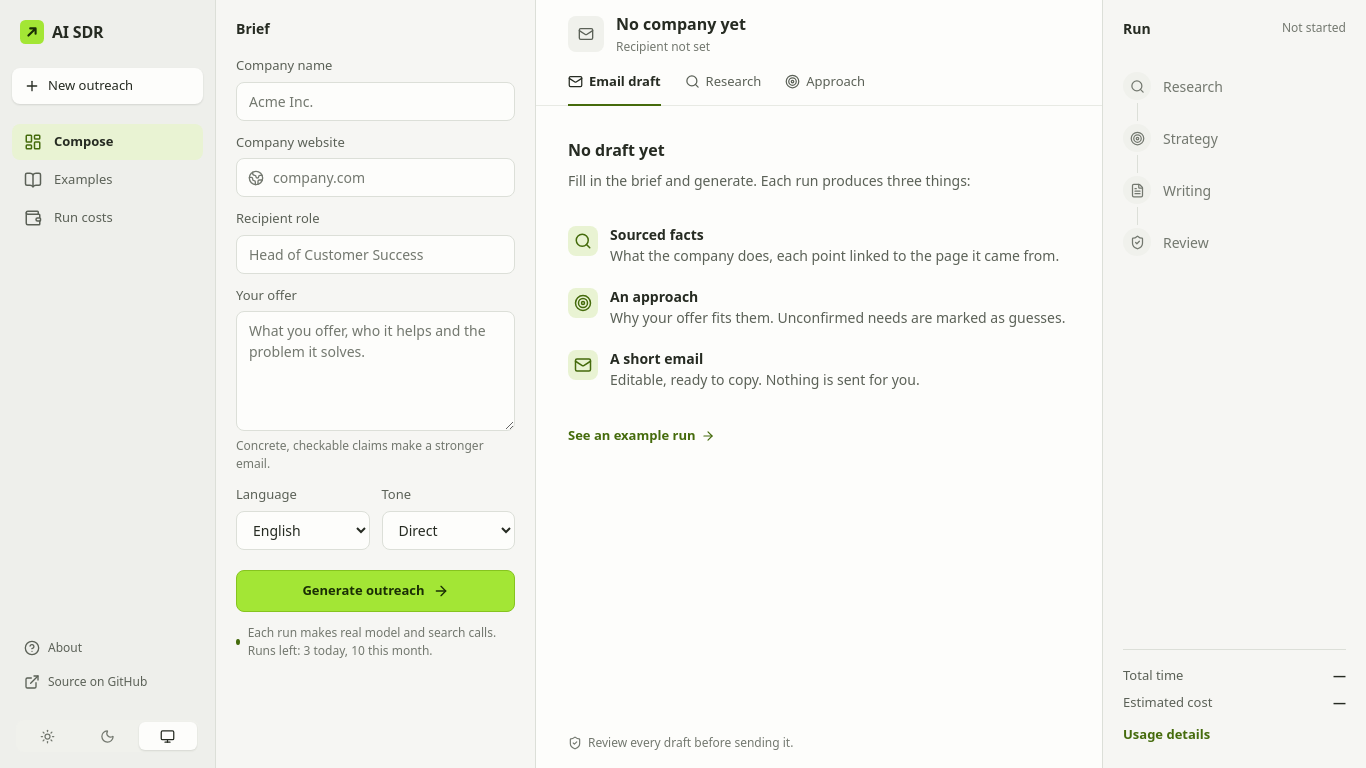
Test case: live run › explains a refused start
Type "Acme" into the field labelled "Company name" at point(376, 101), box [236,82,515,120]
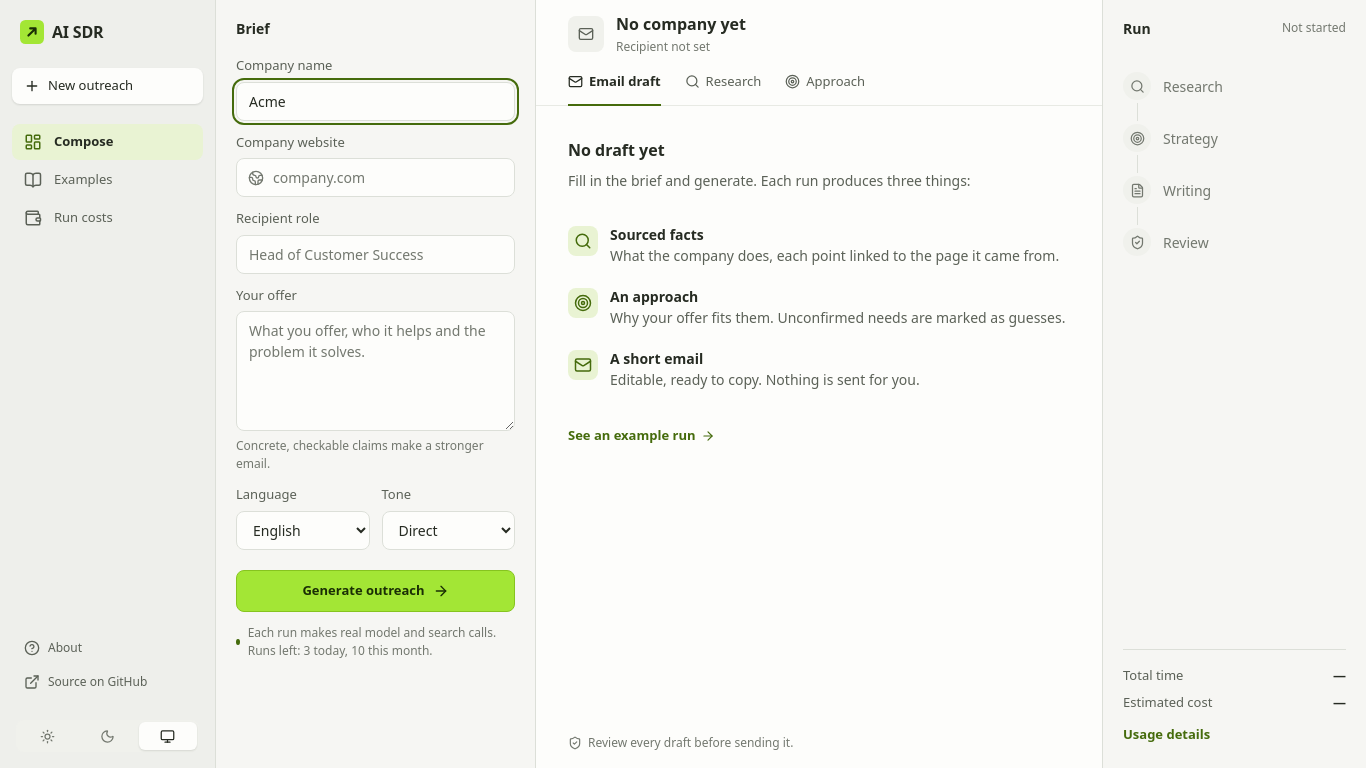
Type "acme.com" into the field labelled "Company website" at point(376, 178), box [236,158,515,197]
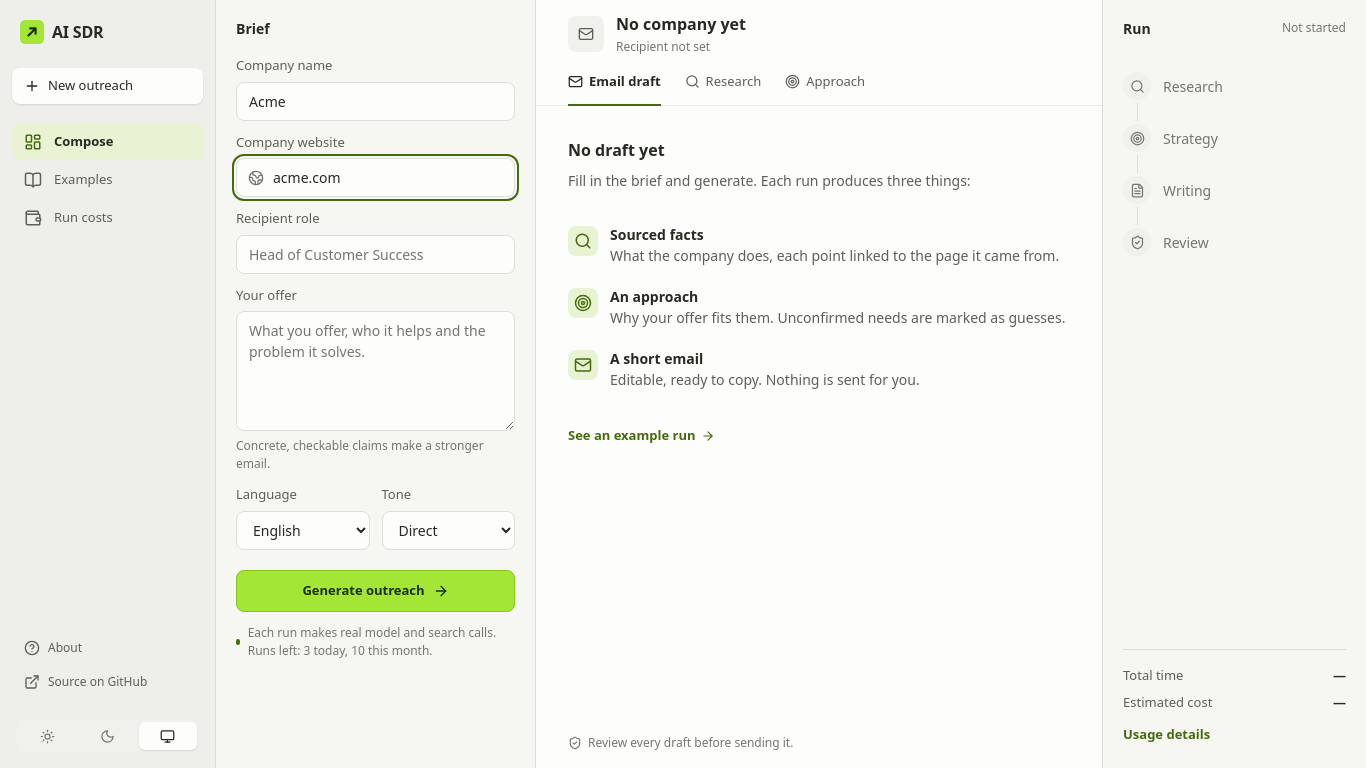
Type "VP of Engineering" into the field labelled "Recipient role" at point(376, 254), box [236,234,515,274]
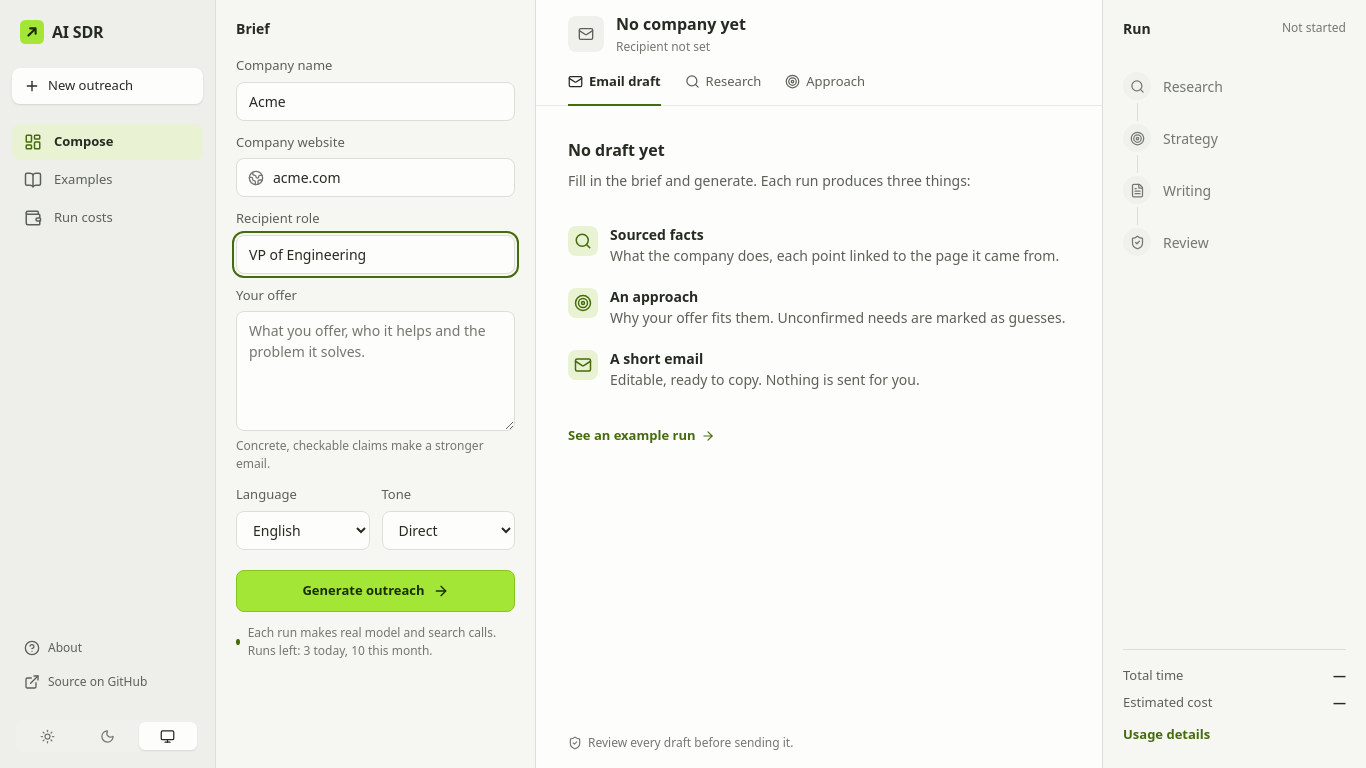
Type "Contract data engineers" into the text box labelled "Your offer" at point(376, 371), box [236,311,515,431]
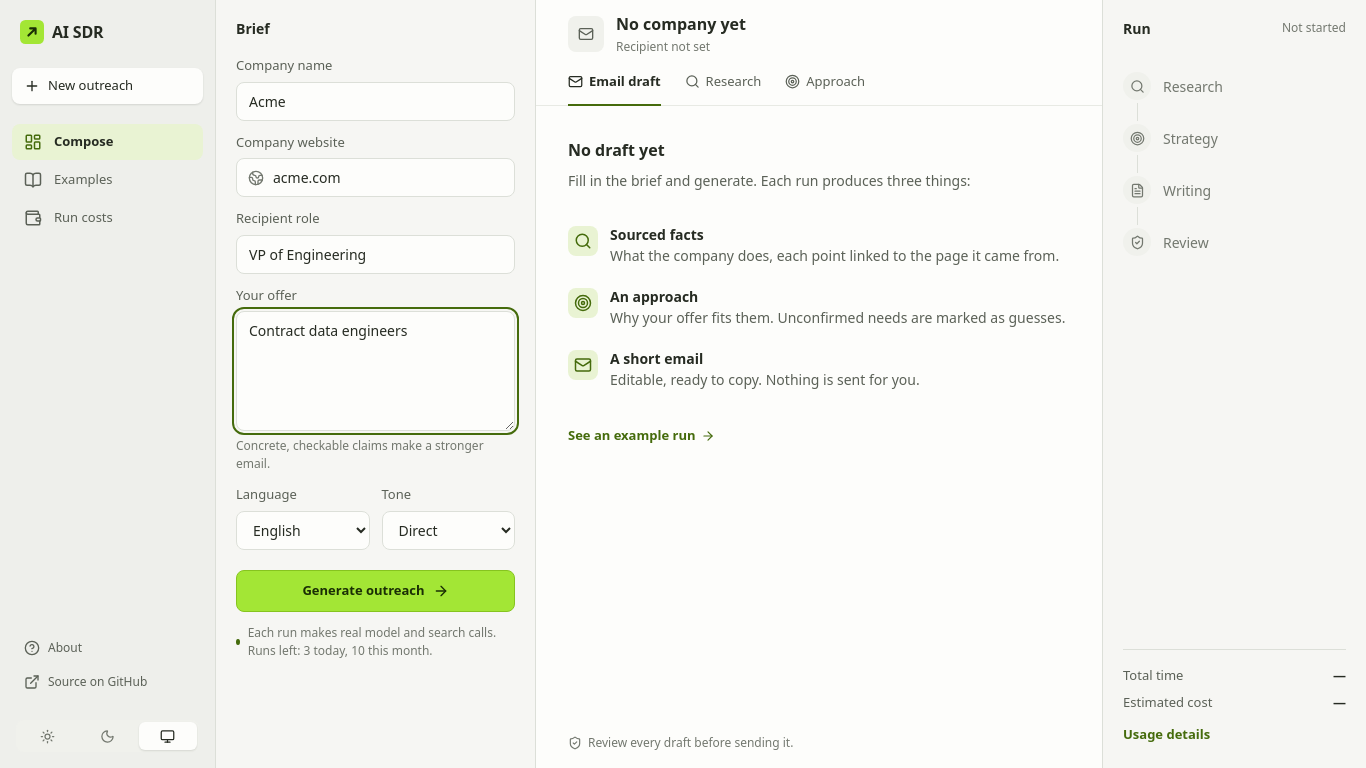
Click the button "Generate outreach" at point(376, 590), box [236,570,515,612]
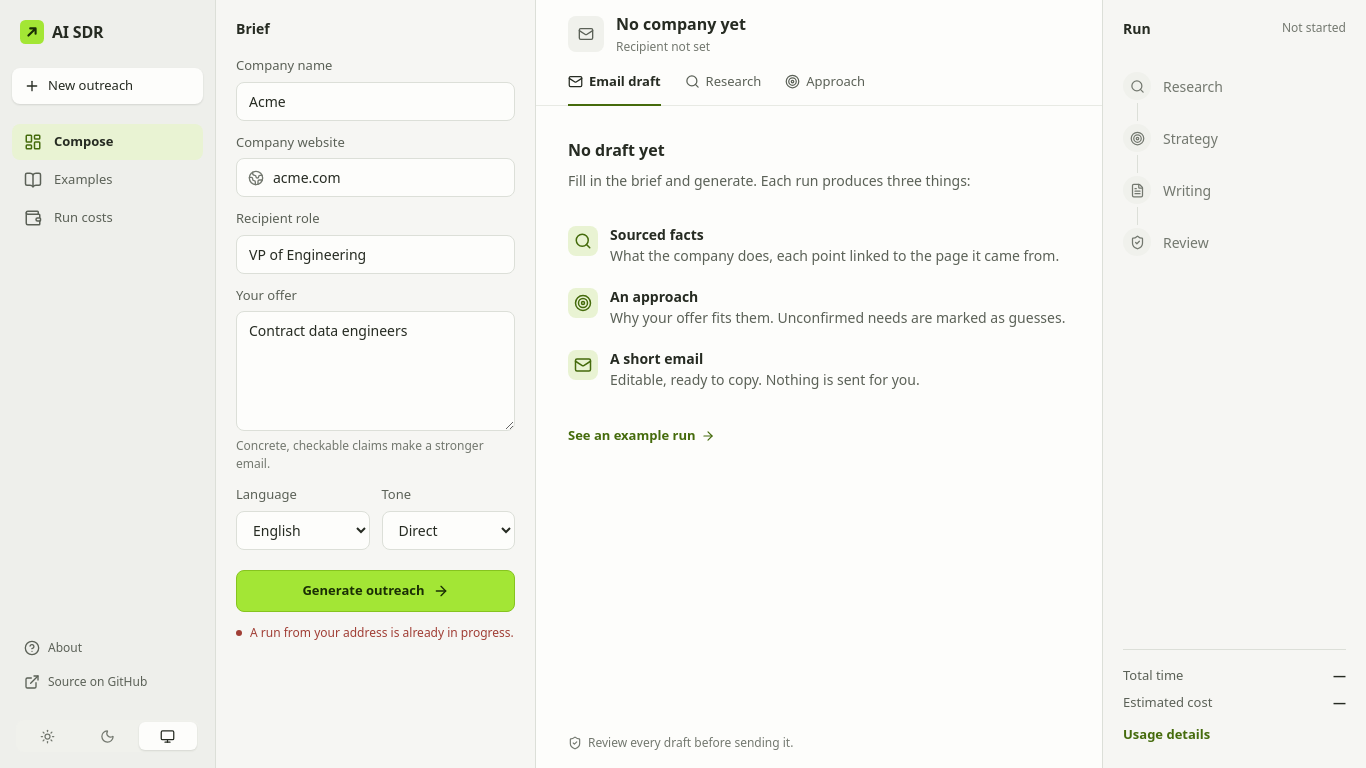
Result: the message reads "A run from your address is already in progress." at [250,624,514,640]
